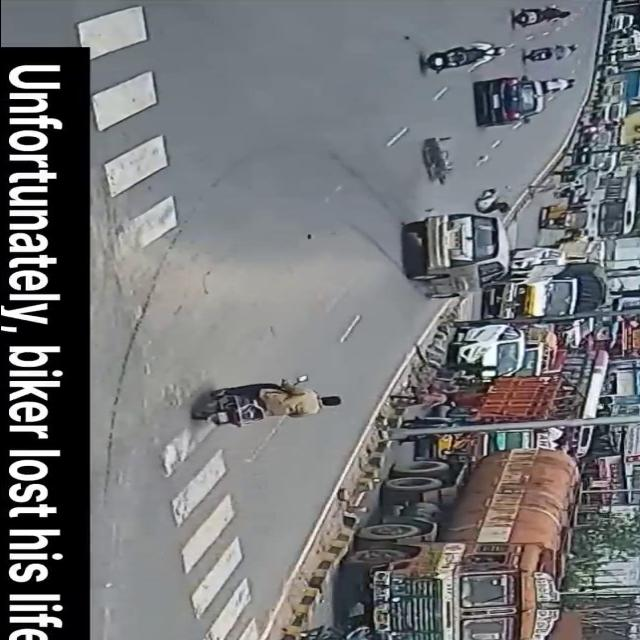accident: (384, 129, 516, 305)
non_accident: (275, 443, 586, 640), (402, 322, 614, 442), (550, 0, 640, 229), (479, 229, 621, 319)
